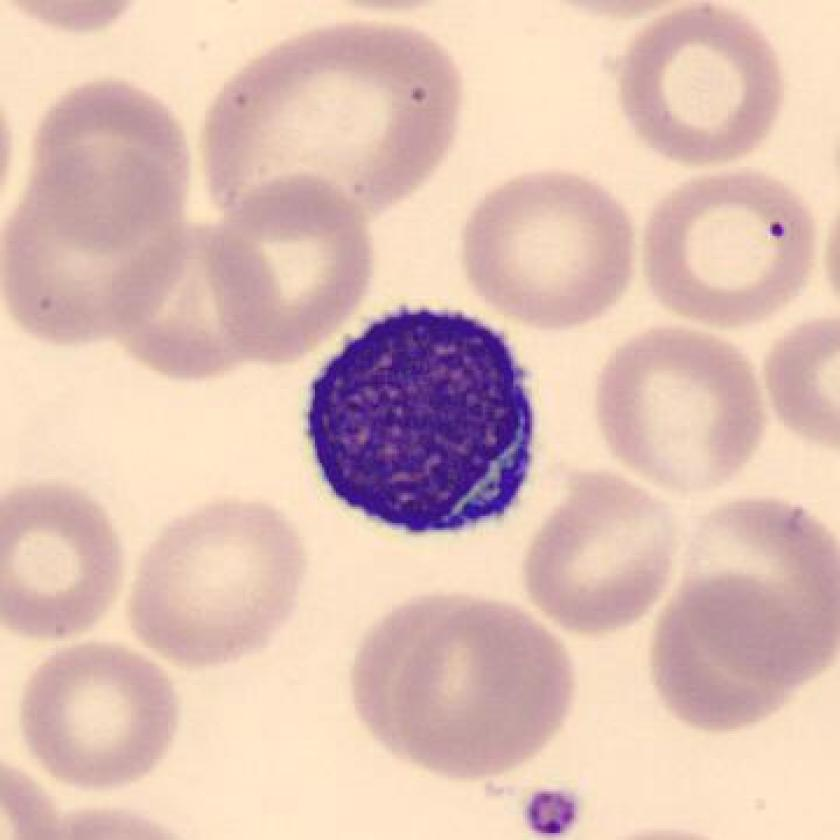lymphocyte: (291, 295, 557, 542)
platelets: (522, 777, 591, 840)
